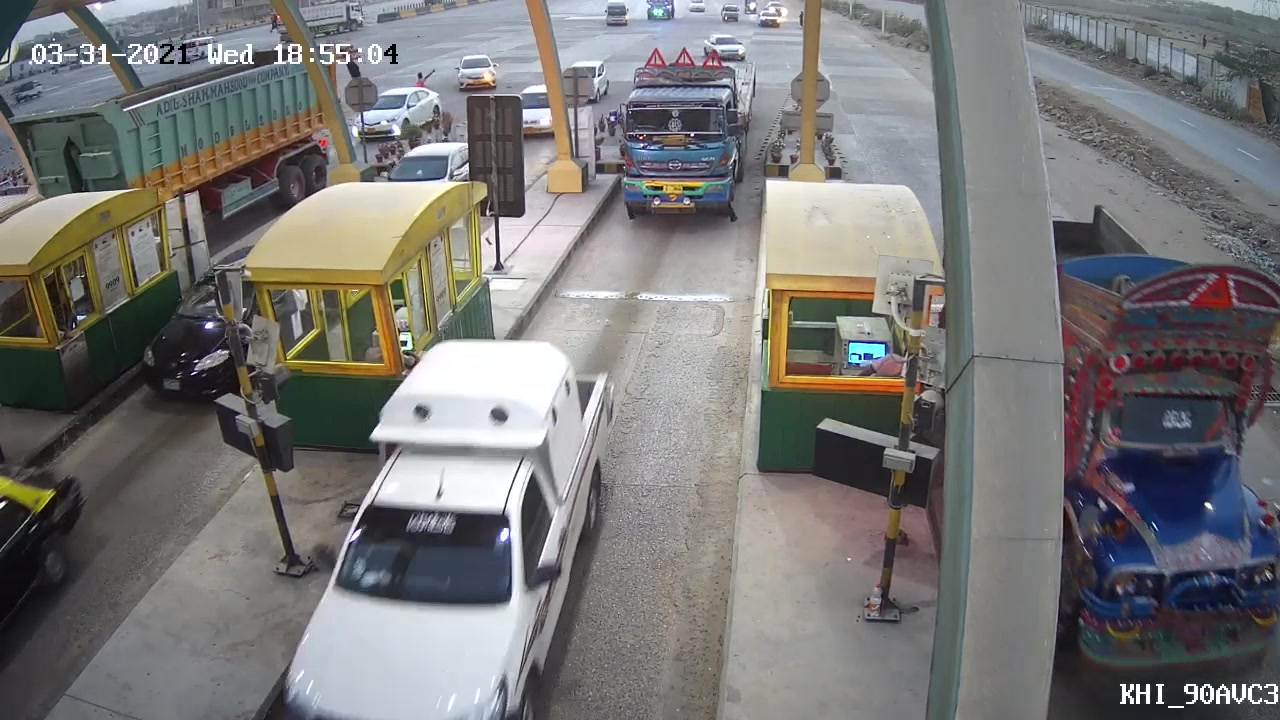F6: (611, 36, 760, 219)
